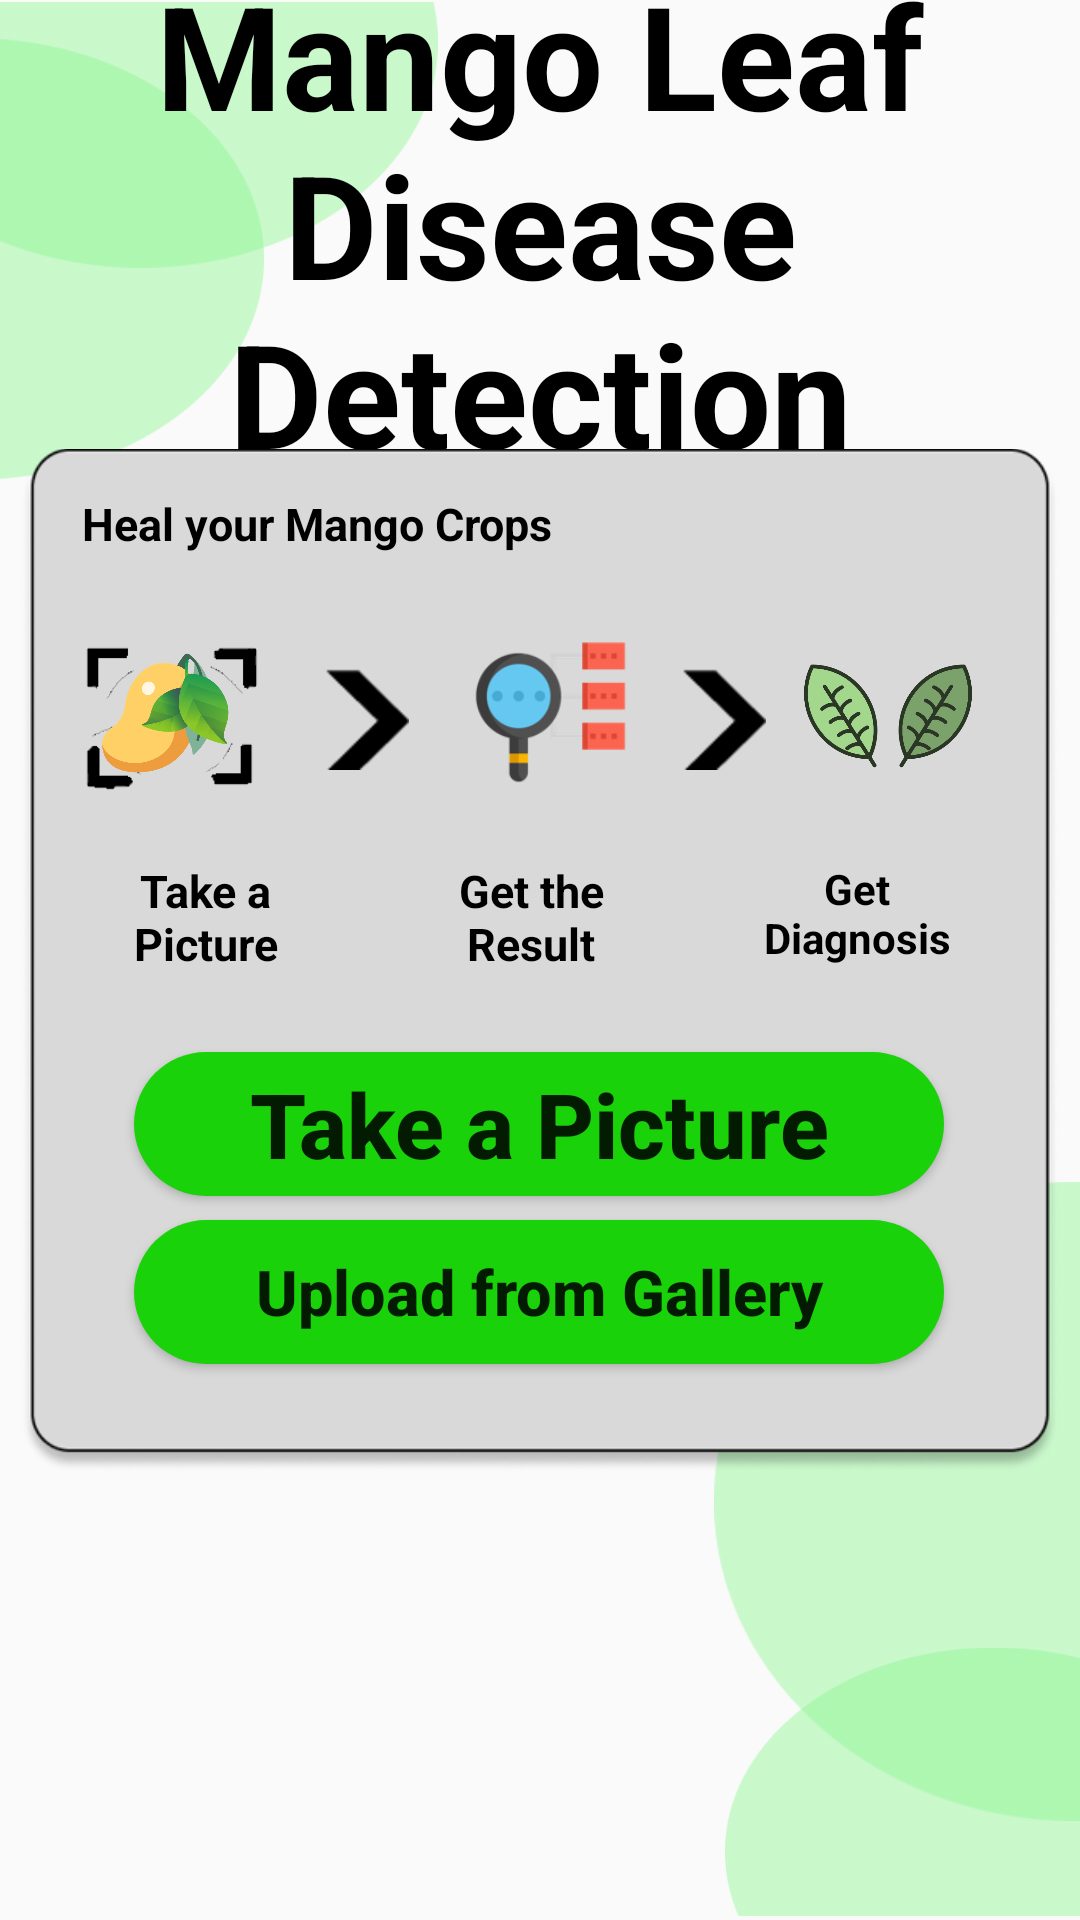

Where to tap for icons on this 1080×1920 app screen, as (x=x, y=y):
arrow: (x=367, y=719), (x=724, y=719)
